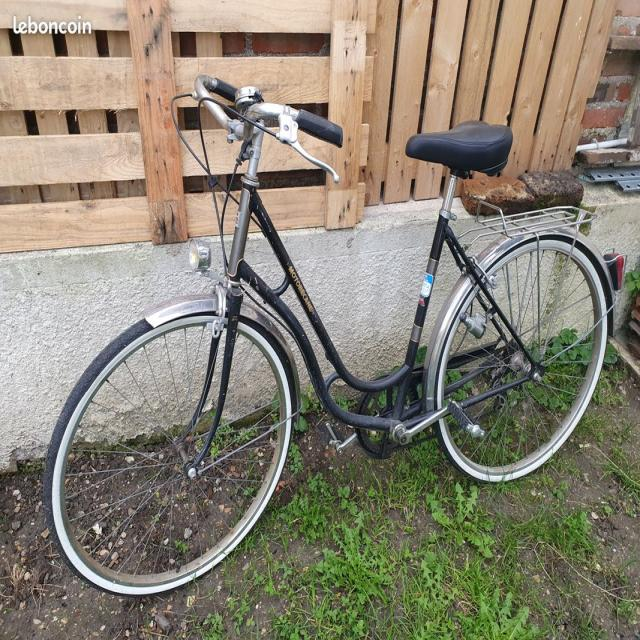Bike: (45, 76, 622, 595)
